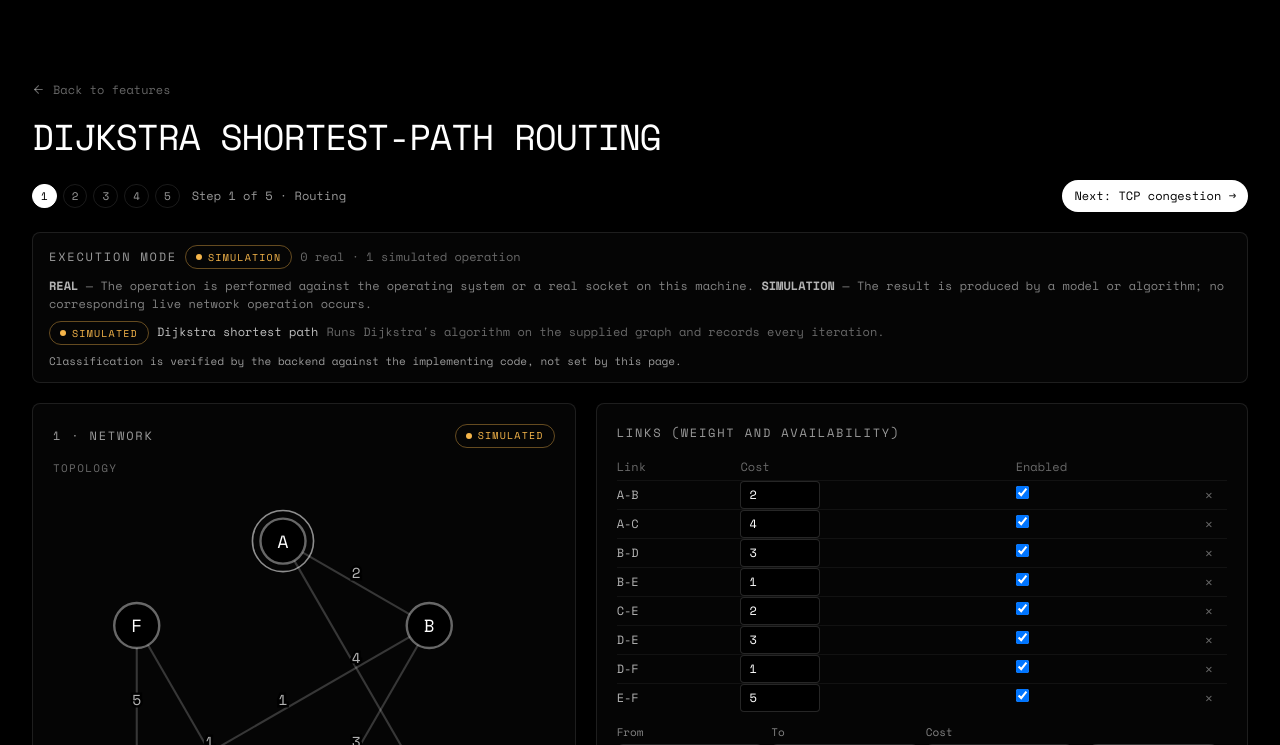
Test: Dijkstra lab — stale and failed results › drops a late response that belongs to inputs the user has since changed
The width and height of the screenshot is (1280, 745).
Replace the text in the number field named "Cost of B-D" with "8": [780, 552] box [740,538,820,566]
(page scrolled)
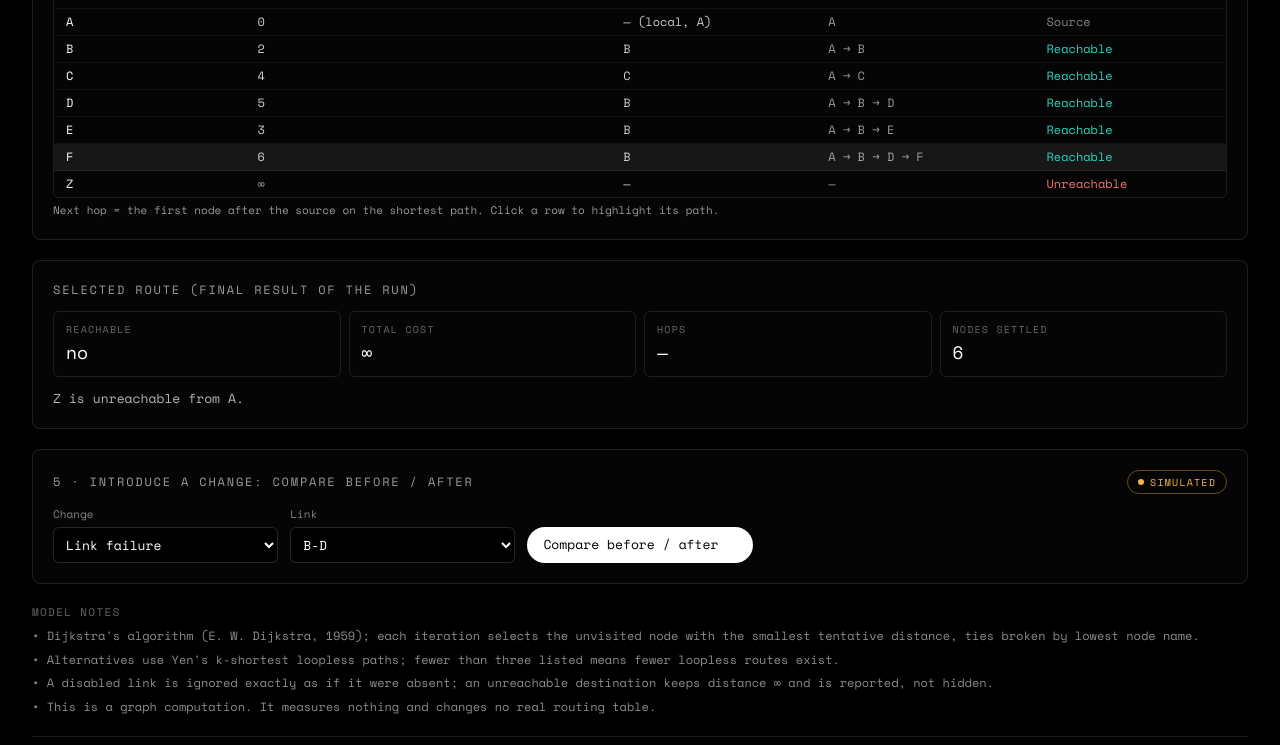
Result: the row with test id "rt-Z" is shown at [54,170,1226,197]
Result: the text "Z is unreachable from A." is shown at [53,388,244,408]
